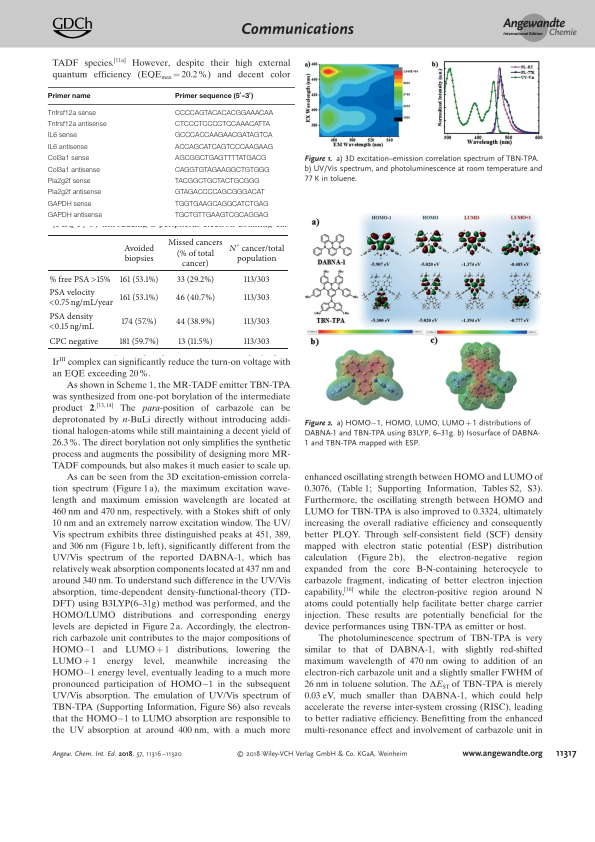borderless: (46, 85, 296, 220), (46, 233, 288, 348)
cell: (167, 238, 224, 269), (48, 287, 114, 310), (228, 239, 285, 264), (48, 311, 95, 334), (48, 270, 112, 286), (174, 109, 274, 118), (174, 143, 274, 152), (174, 120, 270, 129), (174, 211, 269, 220), (174, 154, 267, 163), (174, 132, 273, 140), (174, 177, 260, 186), (174, 166, 270, 174), (174, 200, 269, 208), (174, 189, 265, 197), (123, 243, 155, 264), (174, 92, 254, 100), (48, 336, 99, 347), (47, 120, 107, 129), (47, 211, 103, 220), (118, 336, 160, 347), (175, 292, 216, 303), (175, 316, 216, 327), (47, 109, 96, 118), (47, 189, 102, 197), (119, 292, 159, 303), (47, 166, 100, 174), (121, 316, 158, 327), (177, 336, 214, 347), (119, 274, 159, 284), (47, 177, 91, 186), (176, 274, 215, 284), (47, 154, 90, 163), (47, 143, 88, 152), (47, 200, 92, 208), (47, 92, 91, 100), (243, 292, 271, 303), (243, 316, 271, 327), (243, 336, 271, 347), (243, 274, 271, 284), (47, 132, 77, 140)
